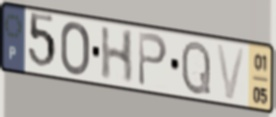5: (27, 11, 58, 75)
H: (99, 25, 136, 86)
O: (59, 20, 92, 78)
P: (136, 30, 169, 89)
Q: (180, 39, 213, 97)
V: (214, 42, 248, 103)
